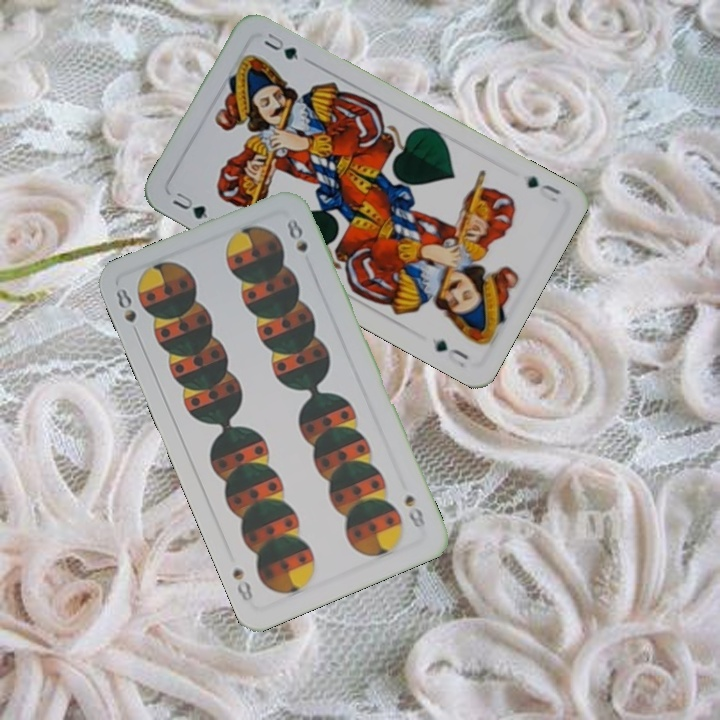GU: (168, 188, 211, 222), (522, 172, 565, 206)
S8: (111, 284, 143, 341), (400, 490, 428, 530)
